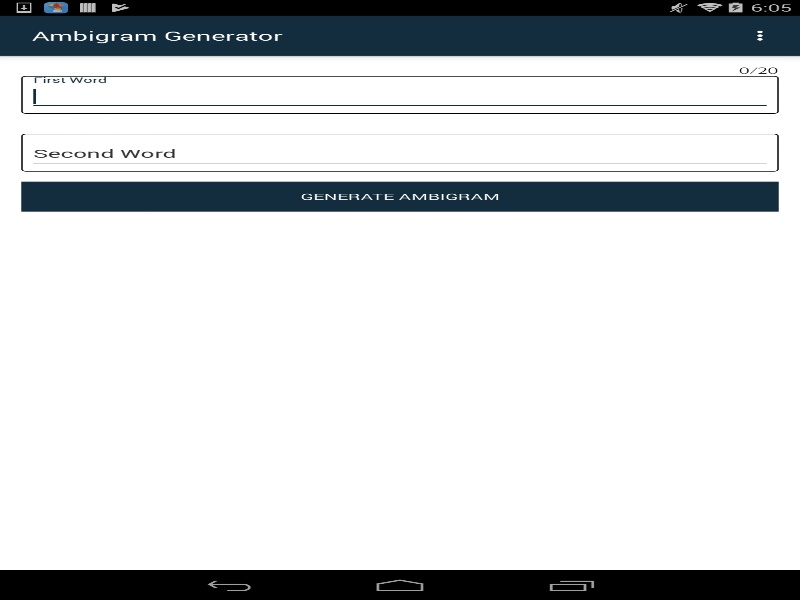Button: (21, 181, 778, 211)
Input: (28, 82, 772, 110), (28, 140, 772, 168)
